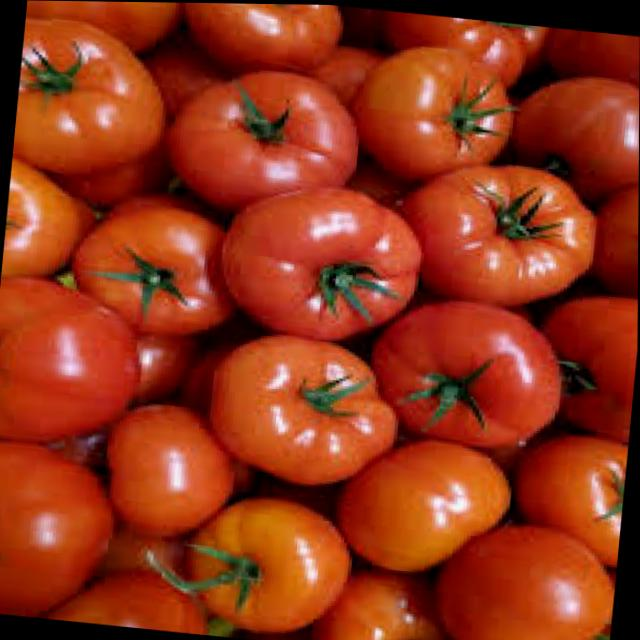tomato: (358, 288, 572, 483), (214, 177, 426, 351), (198, 329, 409, 499), (390, 152, 604, 317), (163, 60, 368, 227), (9, 15, 173, 210), (66, 184, 247, 346), (342, 35, 520, 193), (0, 280, 147, 455), (430, 516, 617, 640), (0, 439, 123, 622), (100, 399, 244, 542), (509, 67, 640, 213), (516, 286, 638, 442), (509, 427, 626, 560), (180, 2, 345, 84), (385, 9, 535, 90), (314, 556, 458, 640), (45, 562, 212, 632), (27, 0, 174, 48), (547, 25, 640, 88)
